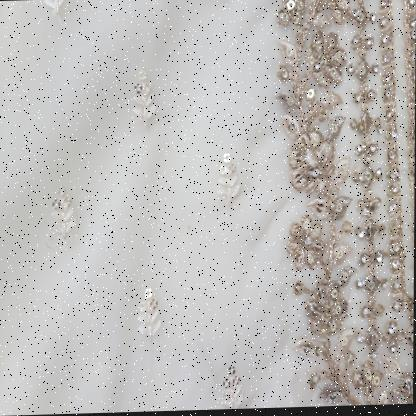spot: (187, 222, 193, 230)
